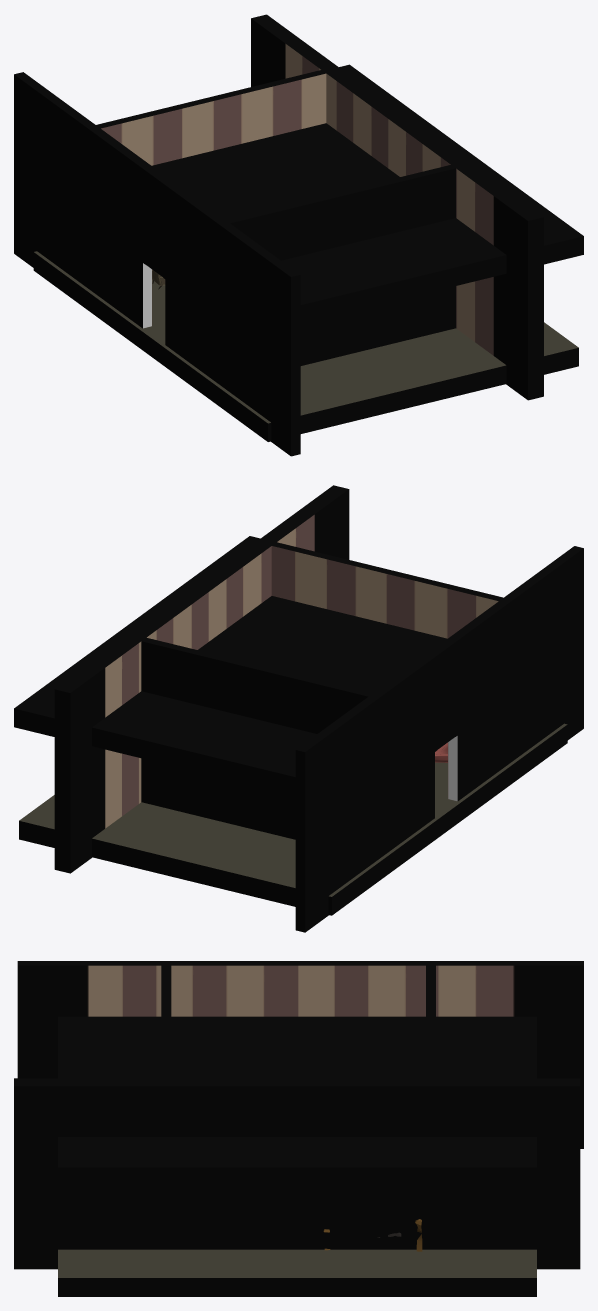
File: Room4.fbx
3 views of the same model, one above another, from view 1: azimuth 30°, elevation 25°; view 2: azimuth 150°, elevation 25°; view 3: azimuth 270°, elevation 25° (orthographic). The views are drawn at different scales.
Visible parts, largest first — view 1: Room Material; view 2: Room Material, None.001; view 3: Room Material.
Part boxes in pixels (box(x1,y1,x2,y2)): Room Material: box(14, 14, 583, 456); Room Material: box(14, 485, 583, 932); None.001: box(448, 736, 457, 801); Room Material: box(14, 961, 583, 1296).
Size of the model in its own units: 1795 by 974 by 2745.
Materials: 6 (6 with a texture image).
